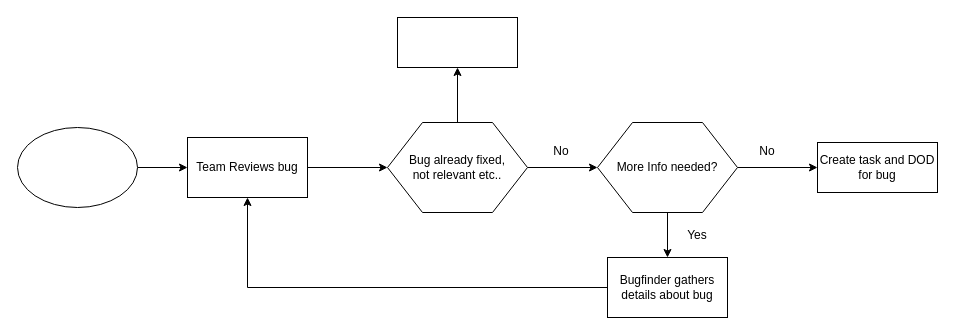
The diagram is 955 pixels wide and 335 high, and some of its shapes have lost their labels. Here are the shapes that lost their labels. From the top down, the centre of each, then its label:
(457,42): Set as closed
(77,167): Bug is reported
